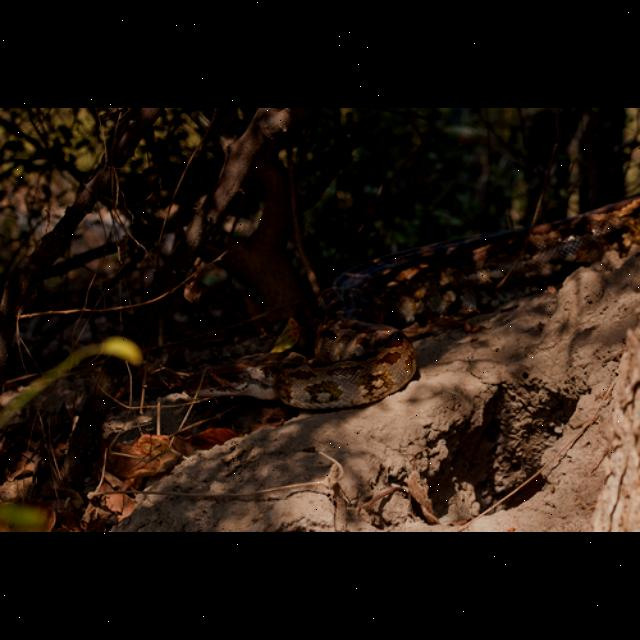snake: (179, 183, 640, 415)
